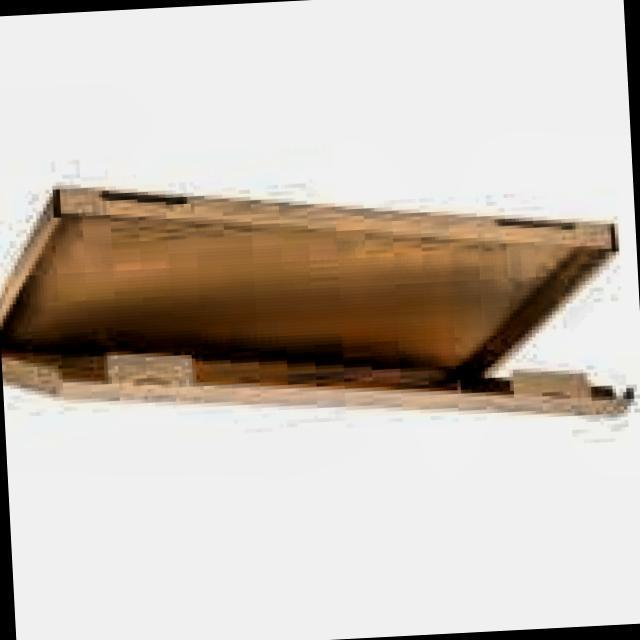cardboard: (0, 160, 635, 453)
